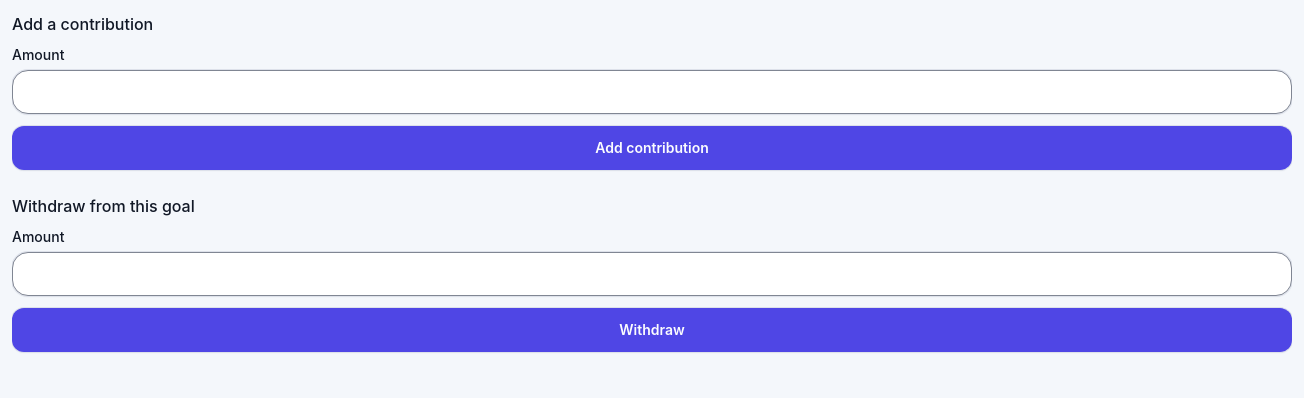
Test case: GoalEntryActions › shows a field error and sends nothing for "" (AC-21)
What coordinates should you click on to do the following:
click the button "Add contribution"
I would click on:
 (652, 148)
Its box is 12,126 -> 1292,170.
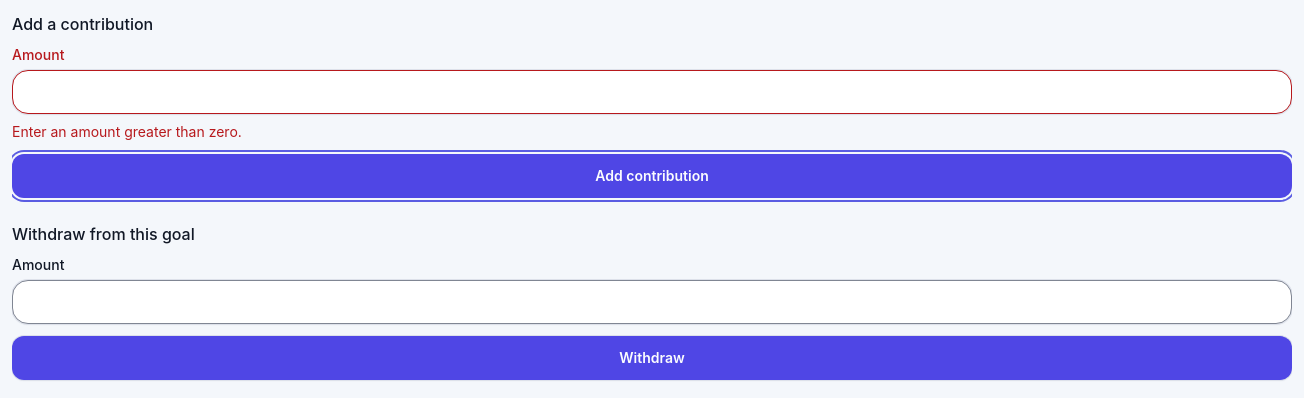
Expected: the text "Enter an amount greater than zero." is shown, 12,123 -> 242,140
